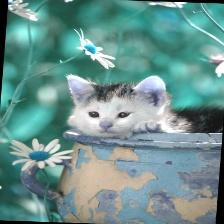kedo: (66, 76, 224, 138)
